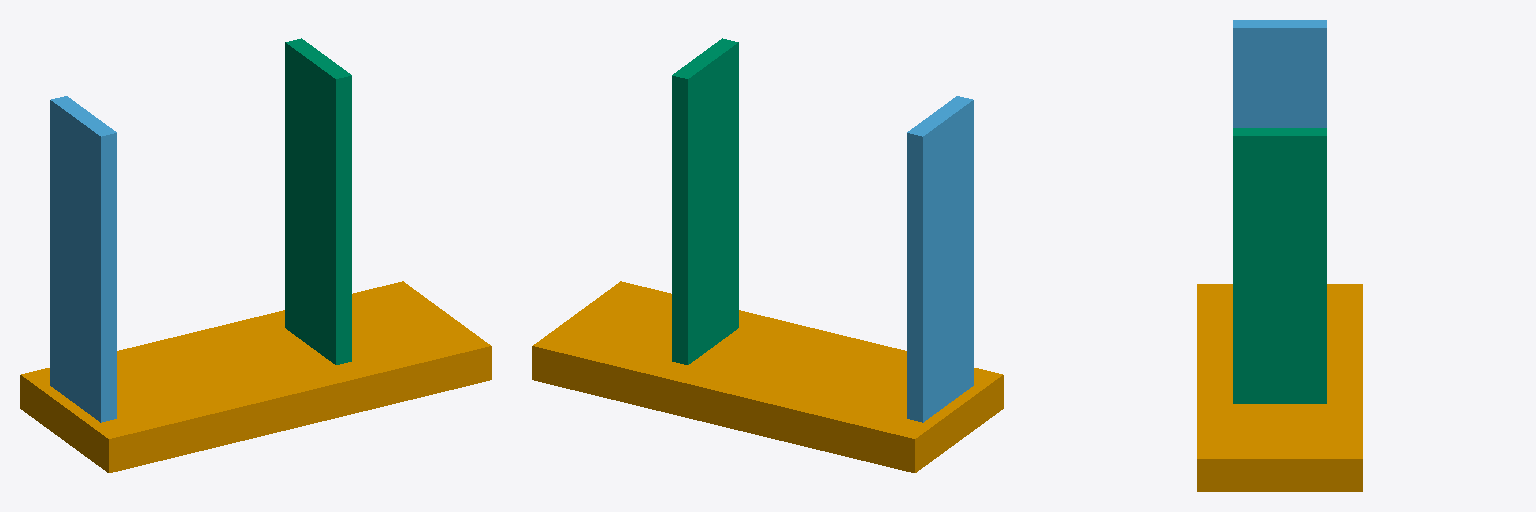
robot.urdf — declared_parallel_gripper_example:
<?xml version="1.0"?>
<robot name="declared_parallel_gripper_example">
  <!-- SI metres, mathematical masses/ratings, box visuals only; no FEM here. -->
  <link name="base">
    <inertial><origin xyz=".03 0 -.003"/><mass value=".02"/><inertia ixx=".000001" iyy=".000006" izz=".000006" ixy="0" ixz="0" iyz="0"/></inertial>
    <visual><origin xyz=".03 0 -.003"/><geometry><box size=".07 .028 .006"/></geometry></visual>
  </link>
  <link name="fixed_finger">
    <inertial><origin xyz="-.0015 0 .025"/><mass value=".00648"/><inertia ixx=".00000148824" iyy=".00000135486" izz=".00000014310" ixy="0" ixz="0" iyz="0"/></inertial>
    <visual><origin xyz="-.0015 0 .025"/><geometry><box size=".003 .016 .05"/></geometry></visual>
  </link>
  <joint name="fixed_mount" type="fixed"><parent link="base"/><child link="fixed_finger"/></joint>
  <link name="moving_finger">
    <inertial><origin xyz=".0015 0 .025"/><mass value=".00648"/><inertia ixx=".00000148824" iyy=".00000135486" izz=".00000014310" ixy="0" ixz="0" iyz="0"/></inertial>
    <visual><origin xyz=".0015 0 .025"/><geometry><box size=".003 .016 .05"/></geometry></visual>
  </link>
  <joint name="slide" type="prismatic"><parent link="base"/><child link="moving_finger"/><origin xyz=".04 0 0"/><axis xyz="-1 0 0"/><limit lower="0" upper=".034" effort="42" velocity=".01"/></joint>
</robot>

--- Facts derived from the render (not from the file) ---
3 views of the same robot in one strip: view 1: azimuth 30°, elevation 25°; view 2: azimuth 150°, elevation 25°; view 3: azimuth 270°, elevation 25° (orthographic).
Robot: declared_parallel_gripper_example — 3 links, 2 joints (1 prismatic, 1 fixed); root link base; default pose: every joint at zero.
Visible links, largest first — view 1: base, fixed_finger, moving_finger; view 2: base, fixed_finger, moving_finger; view 3: moving_finger, base, fixed_finger.
Link boxes in pixels (<box>): base: <box>20,281,491,472</box>; fixed_finger: <box>50,96,116,422</box>; moving_finger: <box>285,38,351,364</box>; base: <box>532,281,1003,472</box>; fixed_finger: <box>907,96,973,422</box>; moving_finger: <box>672,38,738,364</box>; moving_finger: <box>1233,128,1326,403</box>; base: <box>1197,284,1362,491</box>; fixed_finger: <box>1233,20,1326,127</box>.
Size in the robot's own frame: 0.07 by 0.028 by 0.056 metres.
Geometry: primitives only (box / cylinder / sphere), no mesh files.
